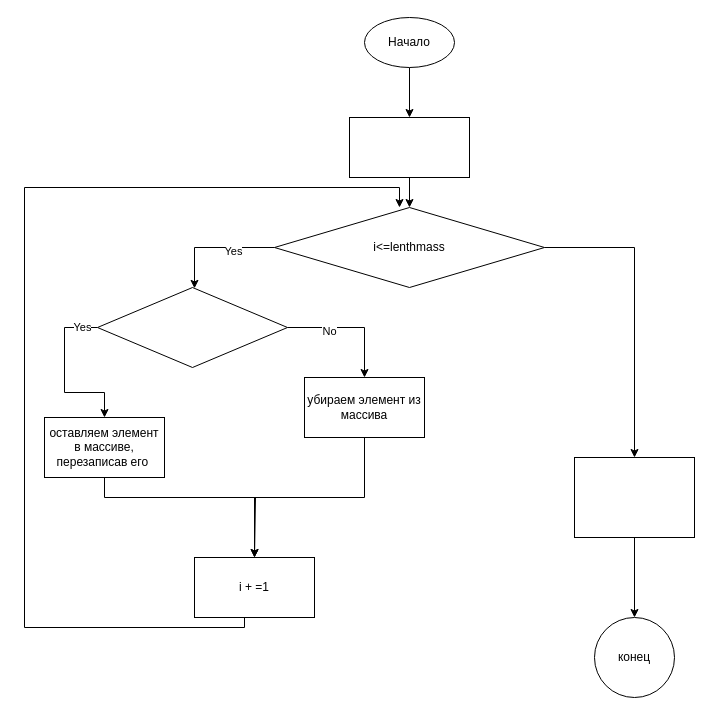
This 712x715 diagram has some shape labels left out. The shapes that lost their labels are listed below. From the top down, each one's centre as x and y in pixels, then its label:
At point 409,147: "mass=[i] size = 3 lenthmass".
At point 192,327: "сравнение элемента с условием size_c<=size".
At point 634,497: "печать нового массива с элементами равными или меньше size".
